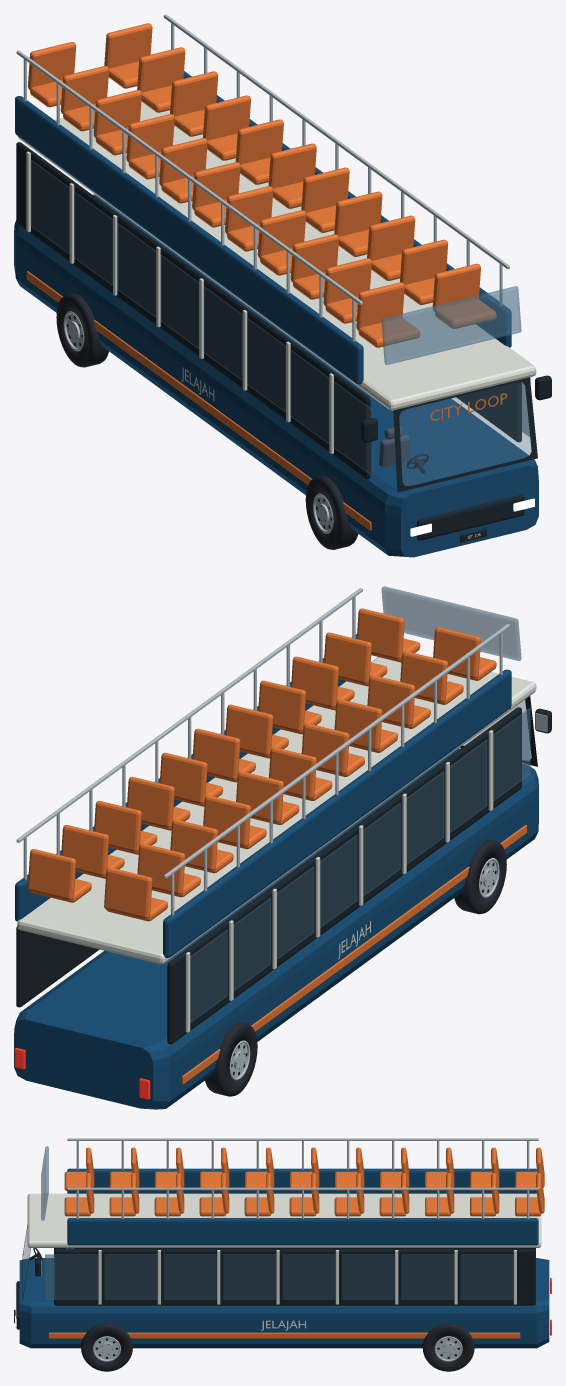
The picture shows the model from 3 angles, top to bottom: view 1: azimuth 30°, elevation 25°; view 2: azimuth 150°, elevation 25°; view 3: azimuth 270°, elevation 25°; orthographic projection. The views are drawn at different scales.
Parts seen in each view (by area): view 1: Jelajah Selat Open Top Tour Bus; view 2: Jelajah Selat Open Top Tour Bus; view 3: Jelajah Selat Open Top Tour Bus.
Boxes of the visible parts, box(x1,y1,x2,y2) form: Jelajah Selat Open Top Tour Bus: box(14, 14, 551, 557); Jelajah Selat Open Top Tour Bus: box(14, 586, 551, 1109); Jelajah Selat Open Top Tour Bus: box(14, 1138, 551, 1371).
Bounding box in the file's own units: 2.82 × 3.78 × 10.16.
